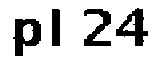2: (81, 5, 114, 49)
4: (116, 6, 150, 51)
l: (49, 6, 68, 55)
p: (11, 16, 42, 60)
